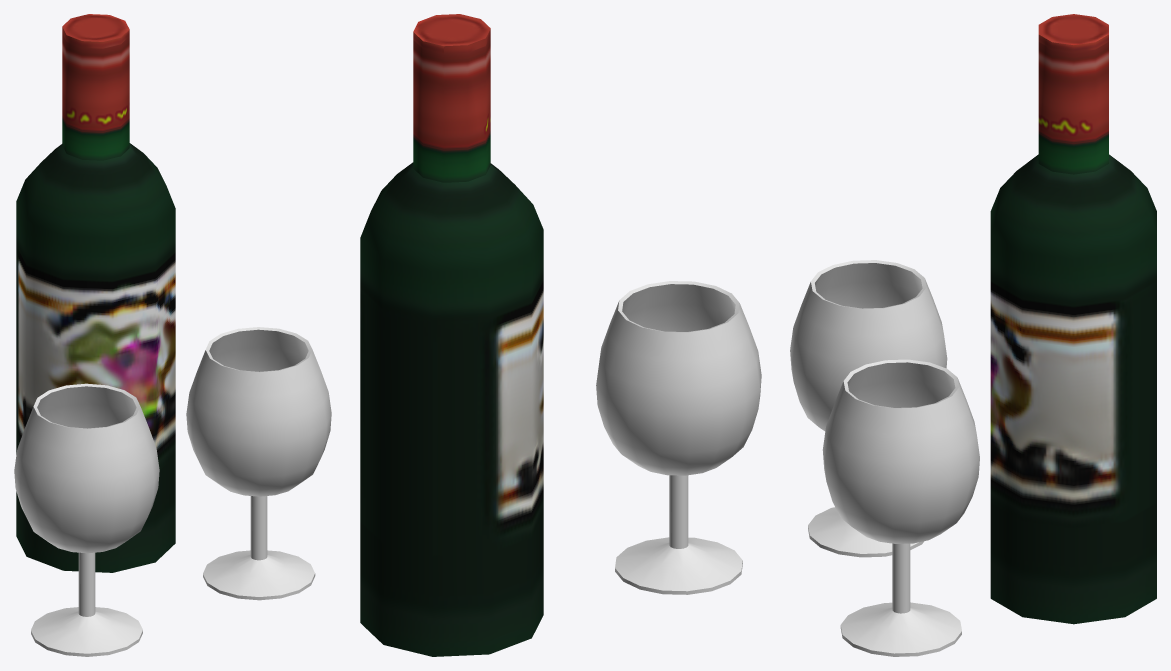
File: VintageGrapeJuice_HD.fbx
3 renders of one model, left to right at view 1: azimuth 30°, elevation 25°; view 2: azimuth 150°, elevation 25°; view 3: azimuth 270°, elevation 25°, orthographic. The views are drawn at different scales.
Parts seen in each view (by area): view 1: VintageGrapeJuice, glass; view 2: VintageGrapeJuice, glass; view 3: VintageGrapeJuice, glass.
Part boxes in pixels (x1=…): VintageGrapeJuice: x1=16, y1=14, x2=175, y2=572; glass: x1=14, y1=327, x2=331, y2=656; VintageGrapeJuice: x1=360, y1=14, x2=543, y2=656; glass: x1=596, y1=281, x2=761, y2=594; VintageGrapeJuice: x1=990, y1=14, x2=1156, y2=624; glass: x1=790, y1=260, x2=979, y2=656.
Size of the model in its own units: 0.3969 by 0.6219 by 0.3708.
